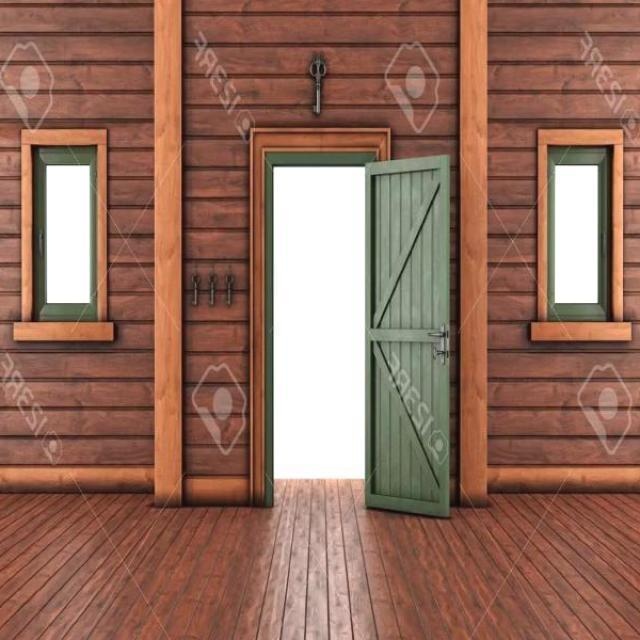door: (363, 153, 451, 517)
